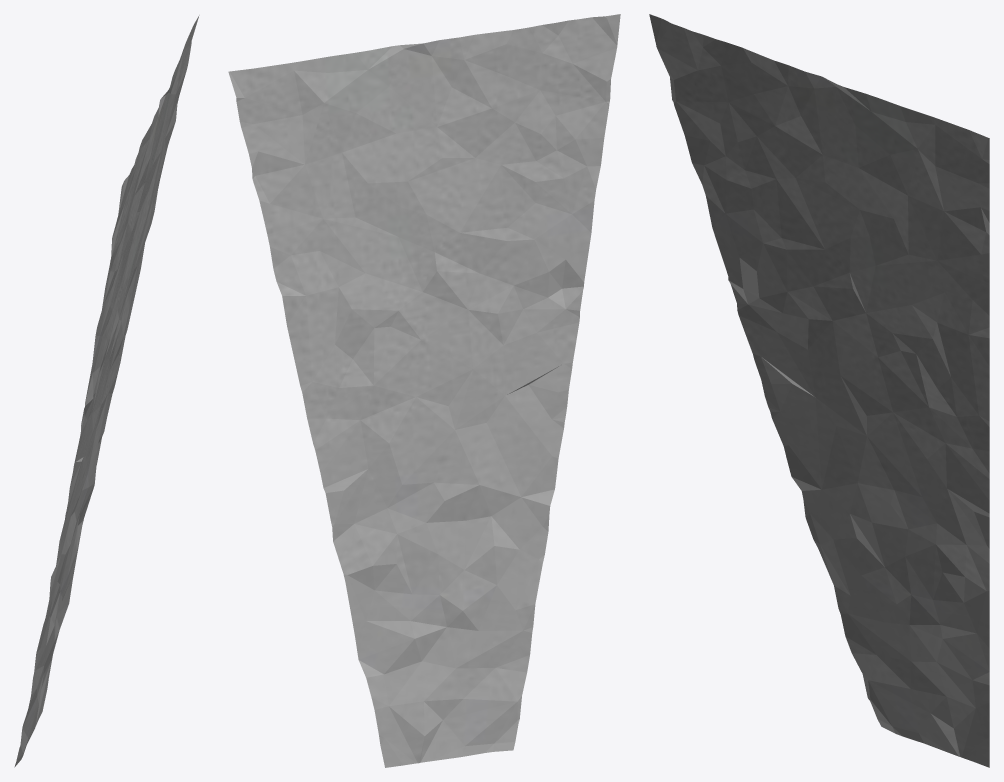
3 renders of one model, left to right at view 1: azimuth 30°, elevation 25°; view 2: azimuth 150°, elevation 25°; view 3: azimuth 270°, elevation 25°, orthographic. The views are drawn at different scales.
Bounding box in the file's own units: 0.3131 × 0.8374 × 0.3628.
1 material, 1 textured.
